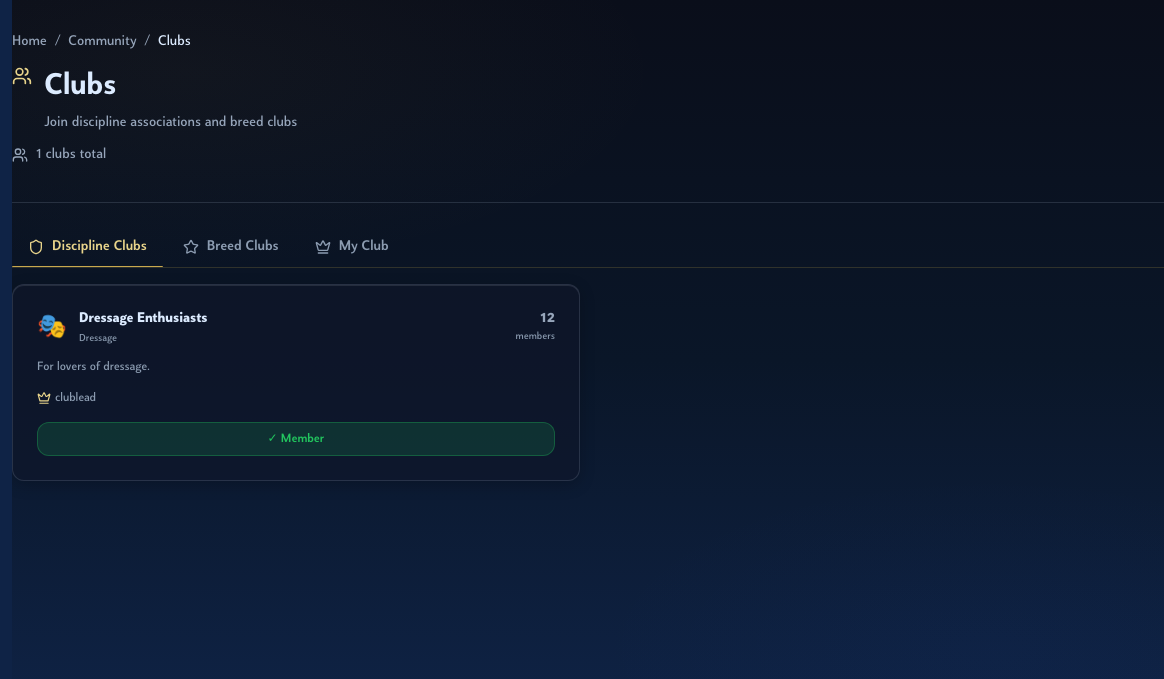
Test: ClubElectionsSection fetch states (Equoria-1rsb7) › does not claim "No active elections" while the elections are still loading
The image size is (1164, 679).
Click the tab with test id "tab-my-club". click: {"x": 352, "y": 247}
box: x1=299 y1=227 x2=405 y2=267
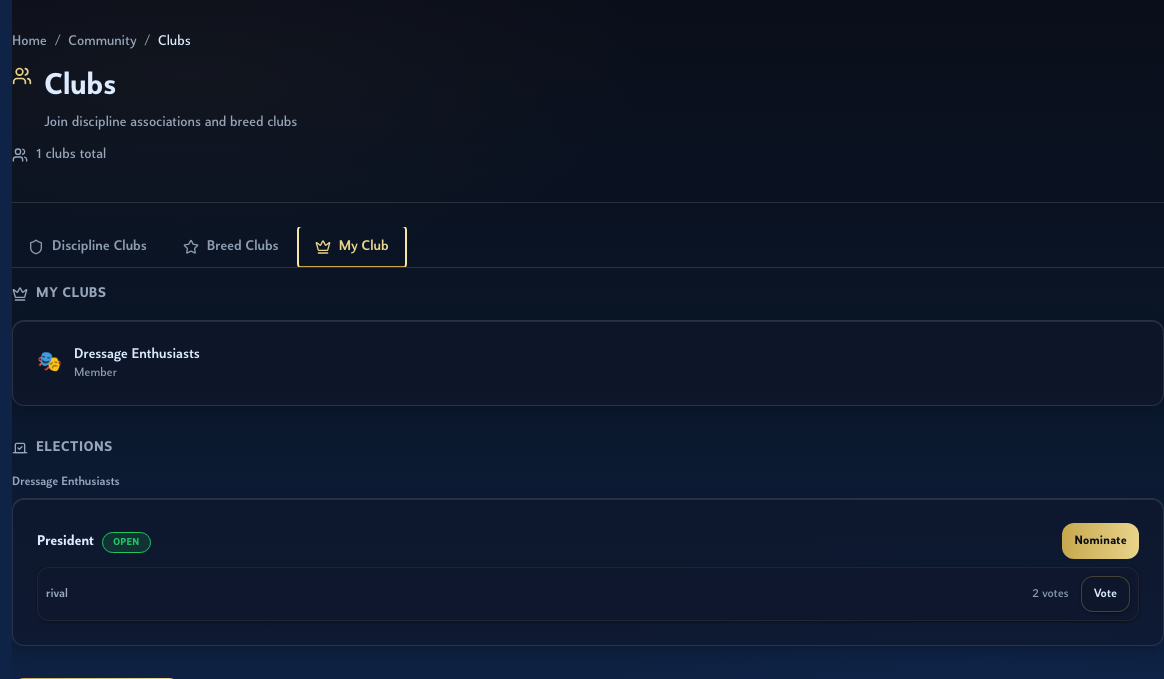
Now the element with test id "election-7" is shown, box x1=12 y1=498 x2=1163 y2=646
